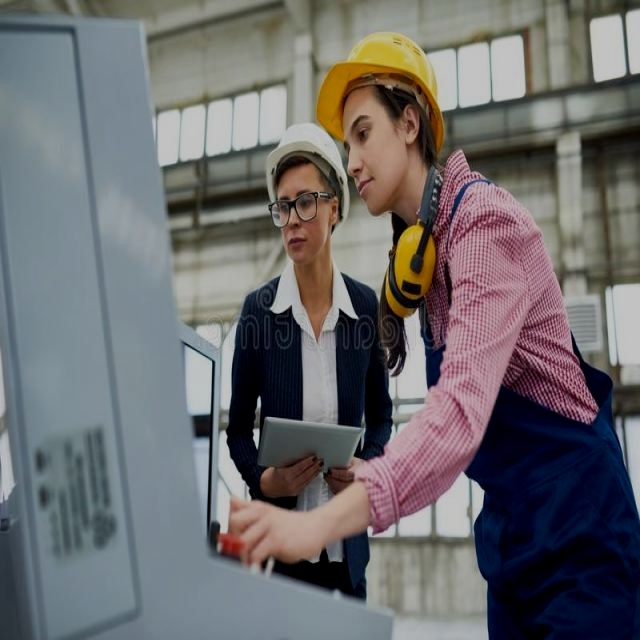Con_Casco: (321, 30, 438, 212)
